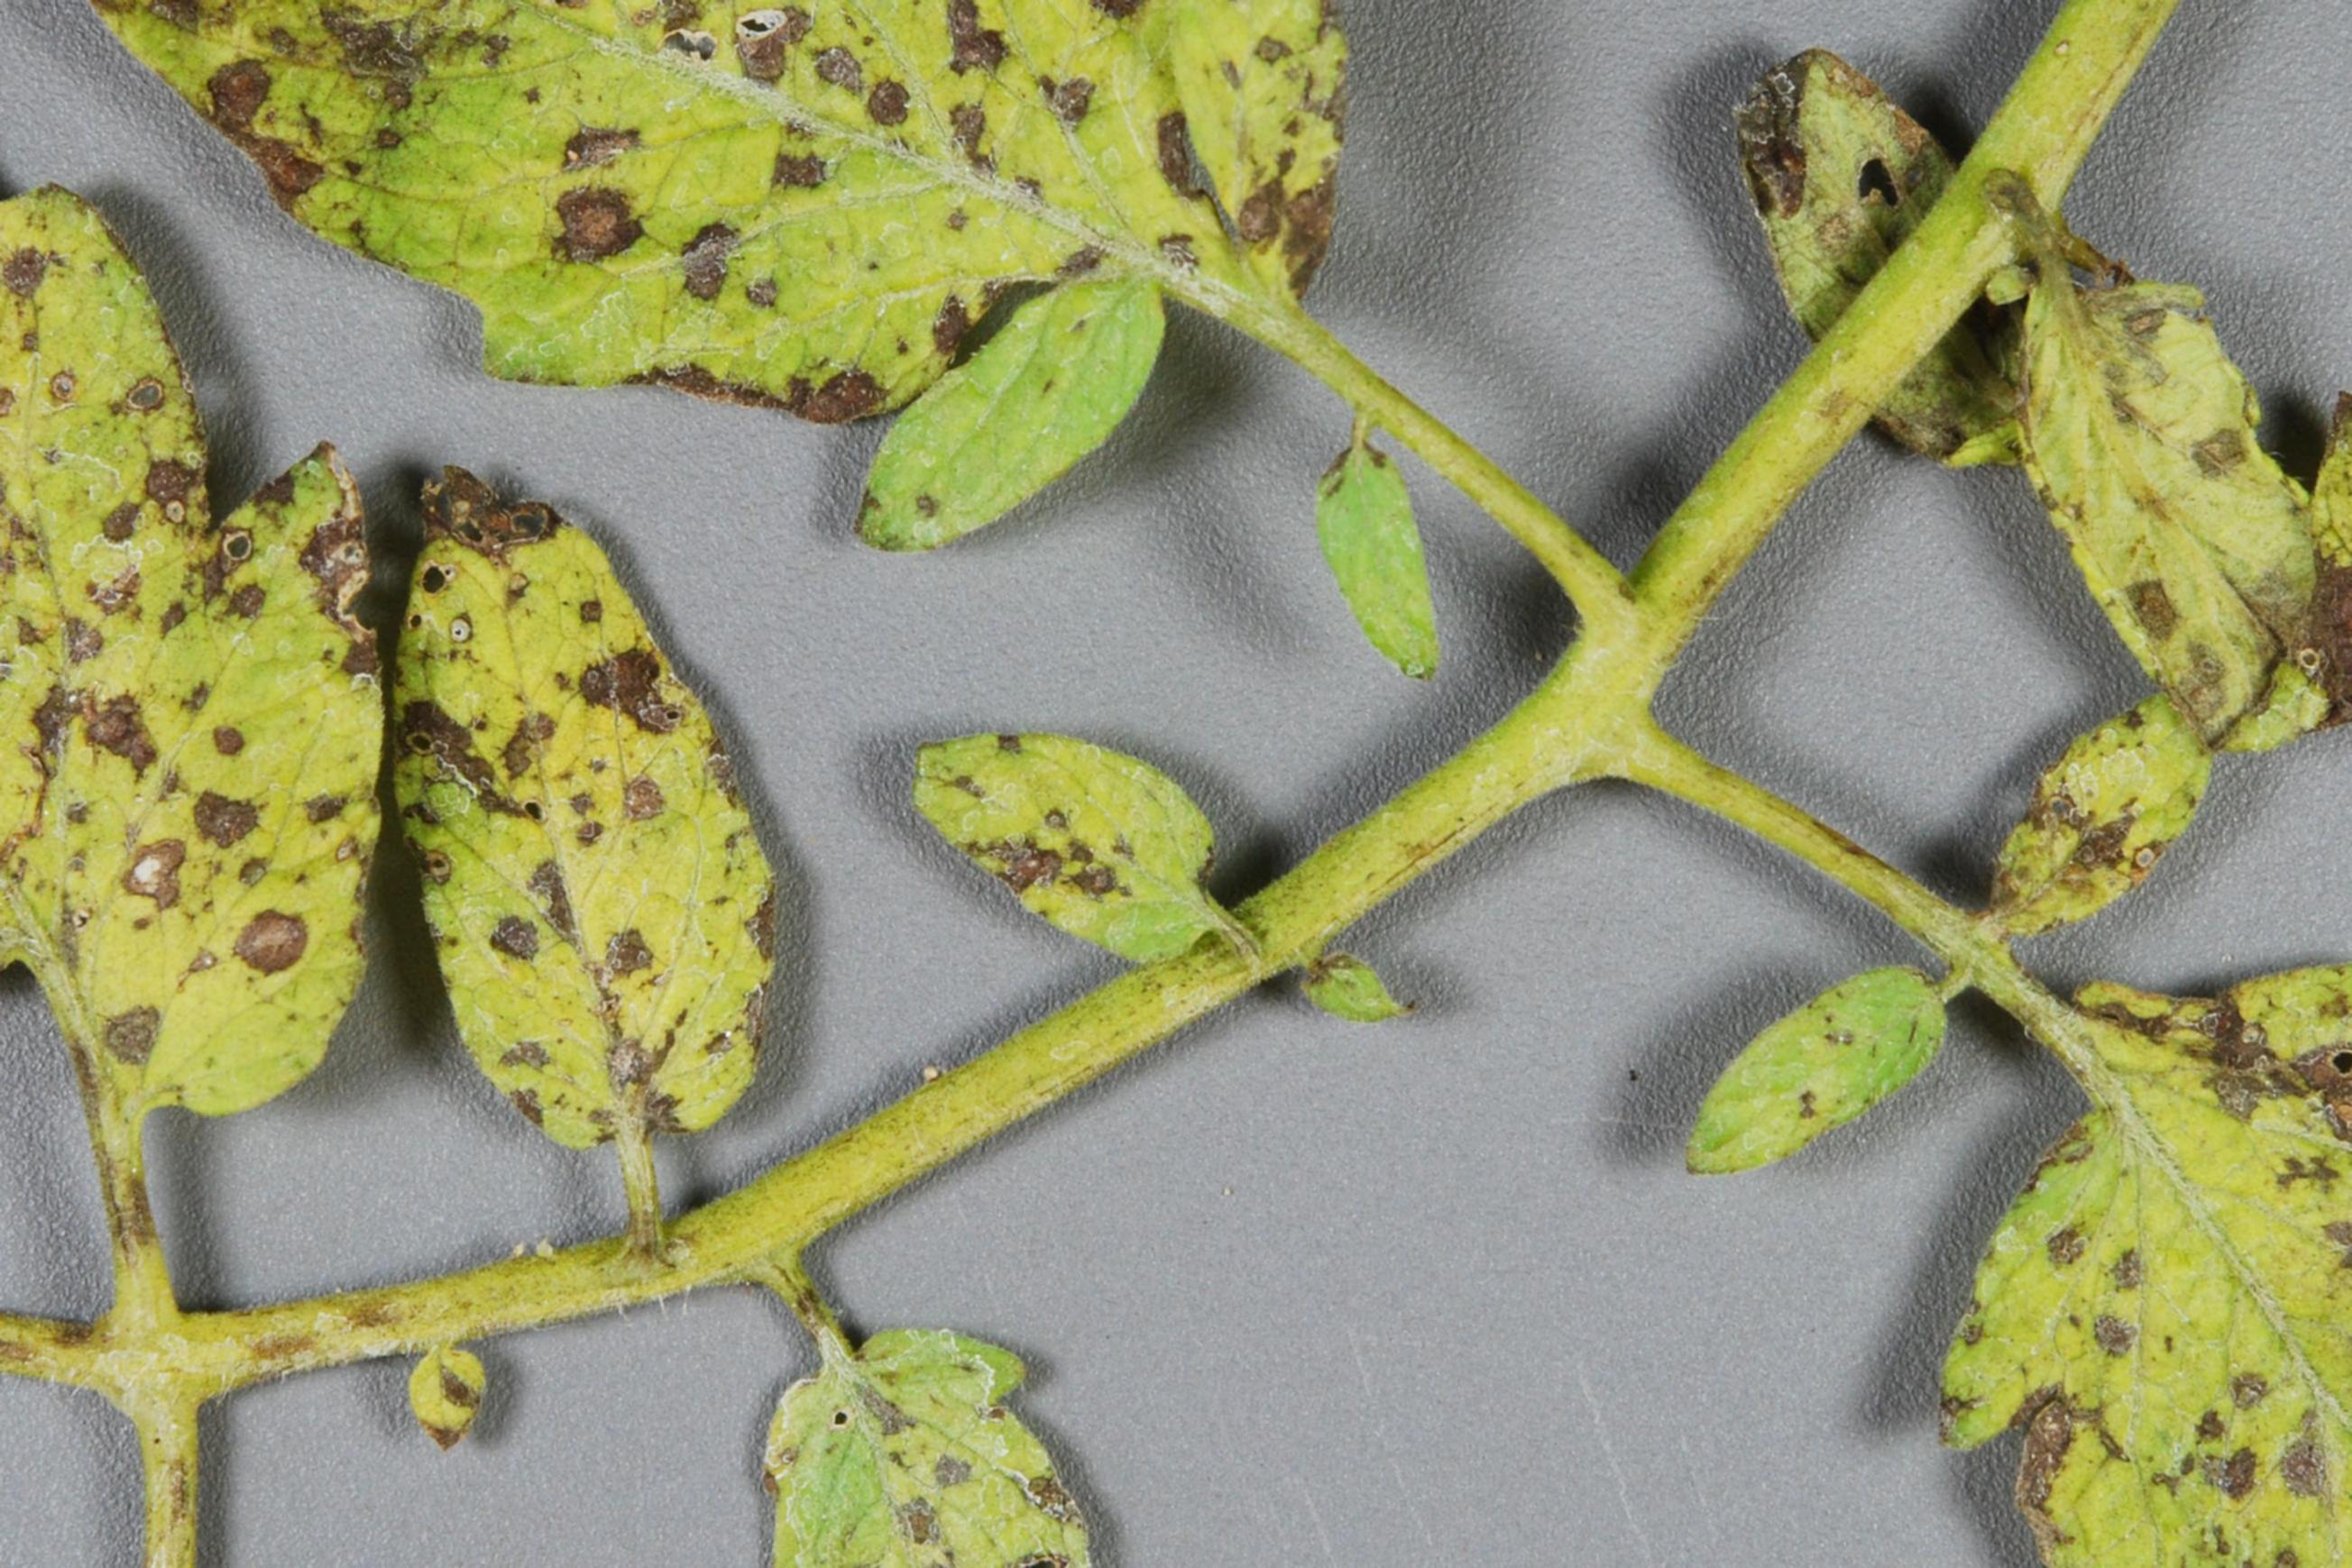Tomato Septoria leaf spot: (0, 0, 1375, 479), (0, 0, 391, 1216), (1830, 862, 2352, 1568), (334, 418, 774, 1148), (2012, 184, 2352, 805), (672, 1308, 1229, 1568), (861, 639, 1249, 977)
